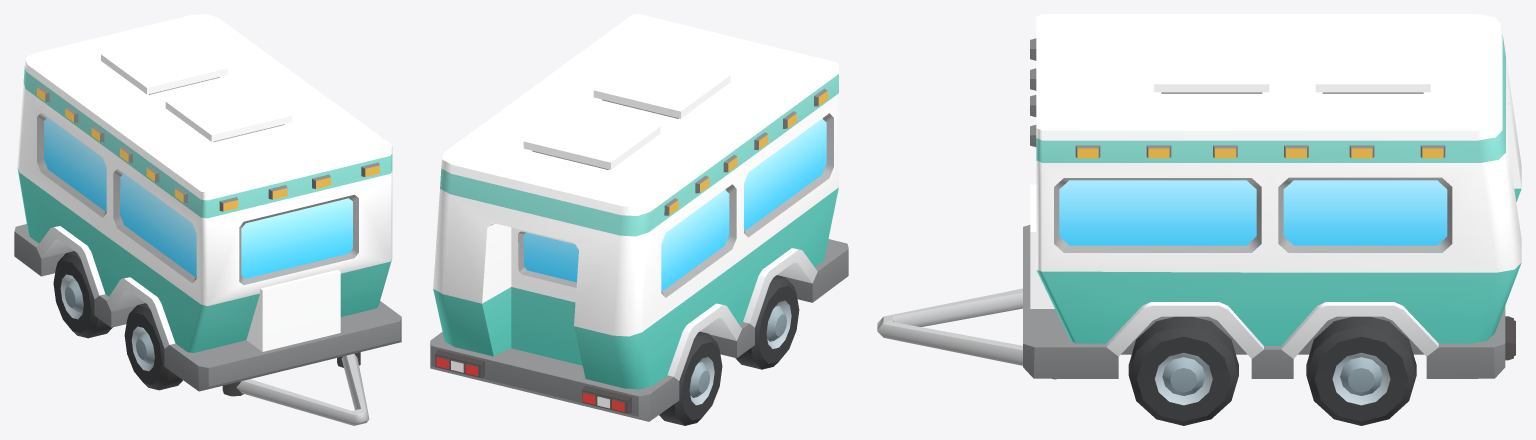
Rendered from Camp_Trailer_01.glb.
3 renders of one model, left to right at view 1: azimuth 30°, elevation 25°; view 2: azimuth 150°, elevation 25°; view 3: azimuth 270°, elevation 25°, orthographic. The views are drawn at different scales.
Visible parts, largest first — view 1: Camp_Trailer_01, Wheel_184, Wheel_183; view 2: Camp_Trailer_01, Wheel_183, Wheel_184; view 3: Camp_Trailer_01, Wheel_186, Wheel_185.
Part boxes in pixels (x1,y1,x2,y2): Camp_Trailer_01: (14, 14, 401, 425); Wheel_184: (53, 251, 112, 338); Wheel_183: (124, 303, 182, 390); Camp_Trailer_01: (430, 14, 848, 421); Wheel_183: (735, 275, 799, 369); Wheel_184: (659, 331, 722, 425); Camp_Trailer_01: (877, 14, 1521, 379); Wheel_186: (1306, 316, 1416, 425); Wheel_185: (1128, 316, 1238, 425).
Size of the model in its own units: 2.13 by 2.48 by 4.68.
Materials: 2 (2 with a texture image).
